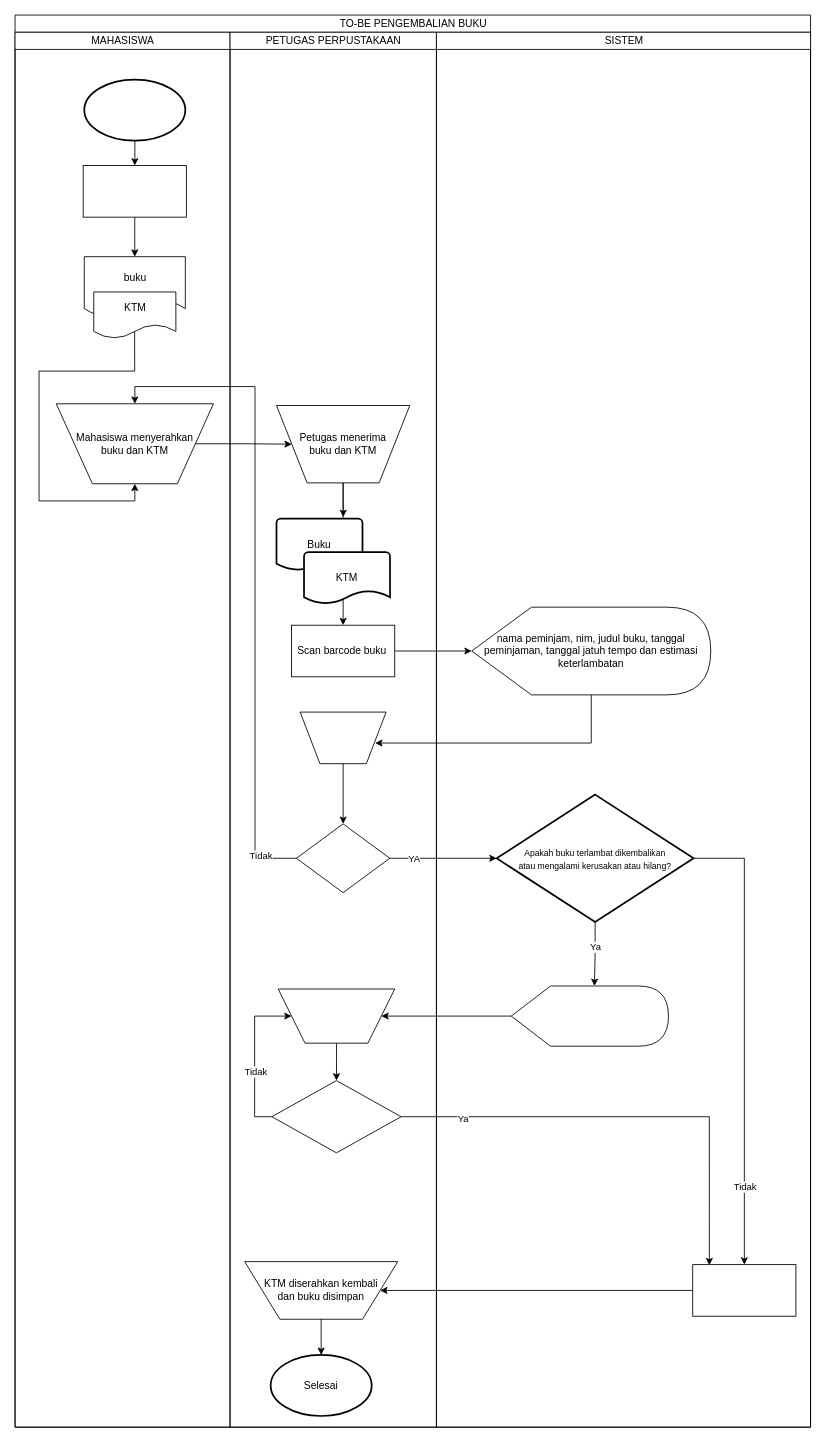
Image size: 826x1442. Some labels were removed from this diagram. The centre of each missing label's shape, as x and y in pixels:
"apakah denda sudah dilunasi?" goes at (x=336, y=1116).
"apakah NIM sesuai?" goes at (x=343, y=858).
"Auto update katalog" goes at (x=744, y=1290).
"Jumlah denda yang harus dilunasi" goes at (x=589, y=1015).
"Mulai" goes at (x=134, y=109).
"Pengingat otomatis" goes at (x=134, y=191).
"proses pembayaran" goes at (x=336, y=1015).
"Validasi NIM" goes at (x=342, y=737).
